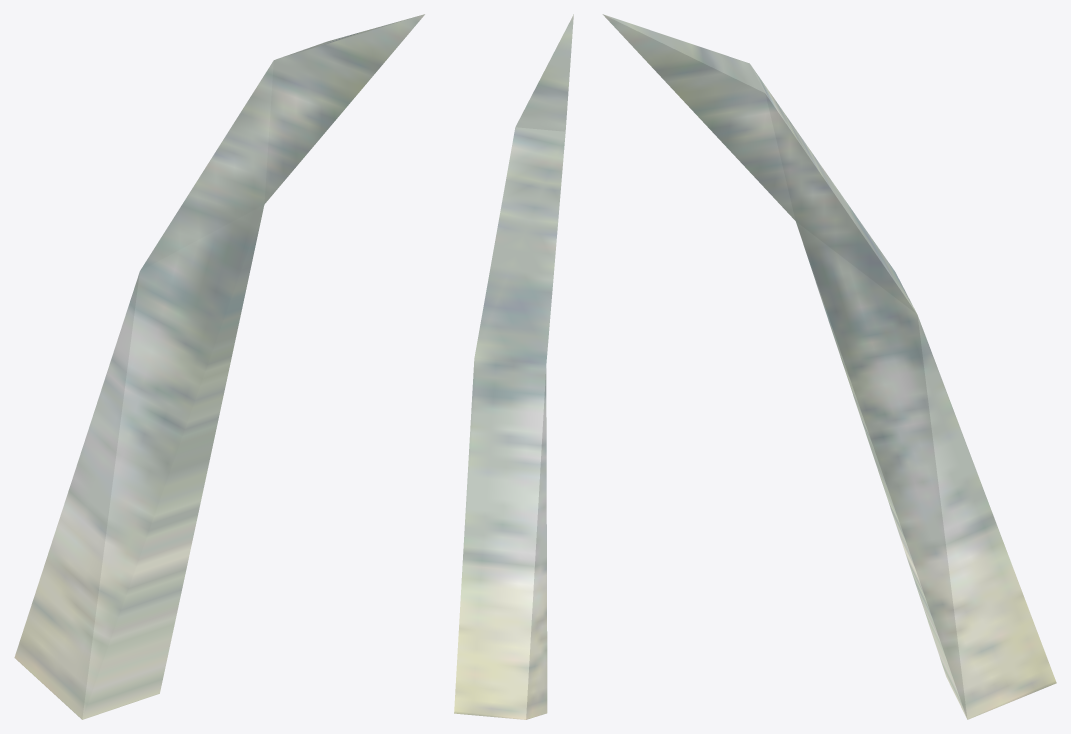
File: rib06.glb
The picture shows the model from 3 angles, left to right: view 1: azimuth 30°, elevation 25°; view 2: azimuth 150°, elevation 25°; view 3: azimuth 270°, elevation 25°; orthographic projection. The views are drawn at different scales.
Parts seen in each view (by area): view 1: rib06; view 2: rib06; view 3: rib06.
Boxes of the visible parts, <box> form: rib06: <box>14,14,424,719</box>; rib06: <box>454,14,573,719</box>; rib06: <box>602,14,1056,719</box>.
Size of the model in its own units: 476 by 2149 by 1206.
1 material, 1 textured.
